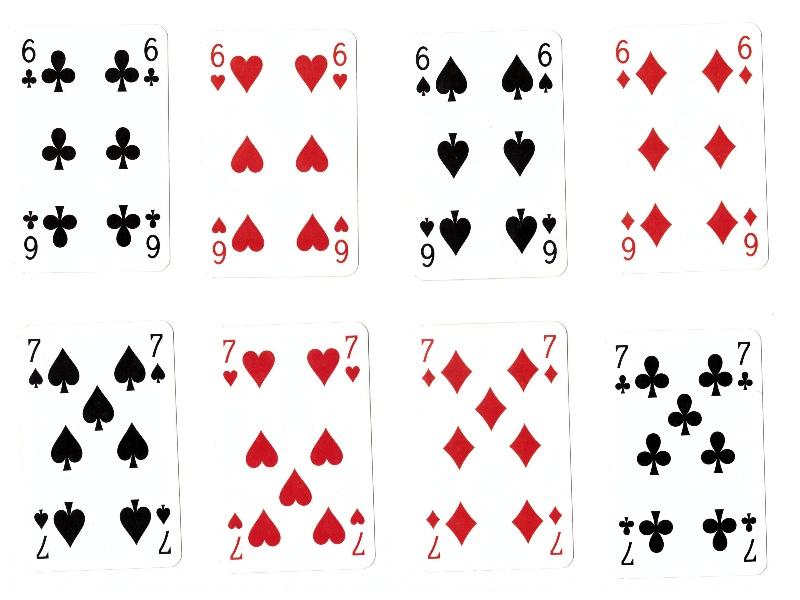6c: (17, 32, 41, 92), (140, 32, 163, 92), (141, 205, 164, 264), (20, 207, 41, 266)
6d: (734, 32, 758, 90), (740, 202, 762, 263), (618, 209, 638, 267), (612, 37, 633, 91)
6h: (329, 37, 353, 95), (207, 212, 229, 269), (330, 211, 352, 268), (207, 40, 229, 92)
6s: (538, 209, 562, 269), (415, 213, 439, 272), (535, 37, 558, 98), (412, 41, 433, 101)
7c: (738, 508, 763, 568), (615, 511, 638, 570), (734, 338, 755, 398), (612, 340, 633, 398)
7d: (539, 330, 564, 389), (415, 332, 439, 391), (545, 501, 567, 559), (423, 507, 444, 565)
7h: (224, 510, 247, 566), (347, 506, 370, 561), (342, 330, 362, 387), (220, 335, 240, 389)
7s: (22, 331, 47, 393), (152, 498, 176, 559), (31, 505, 54, 564), (146, 330, 169, 387)
